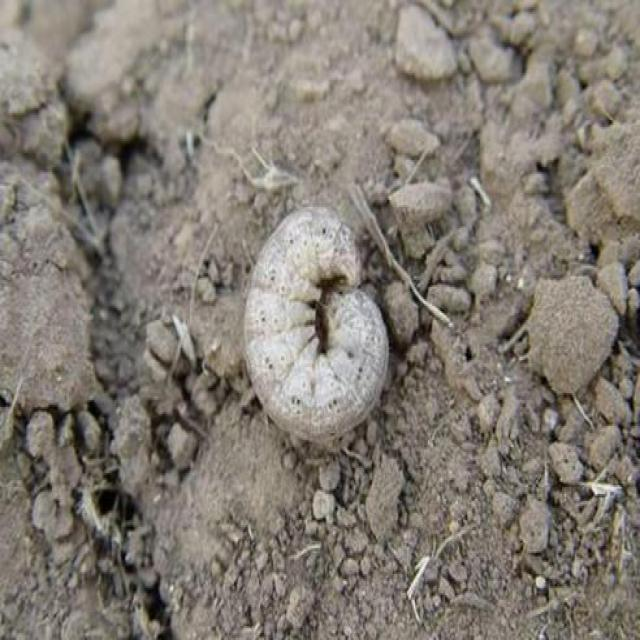BeetArmyWorm-Larva-: (240, 188, 390, 434)
